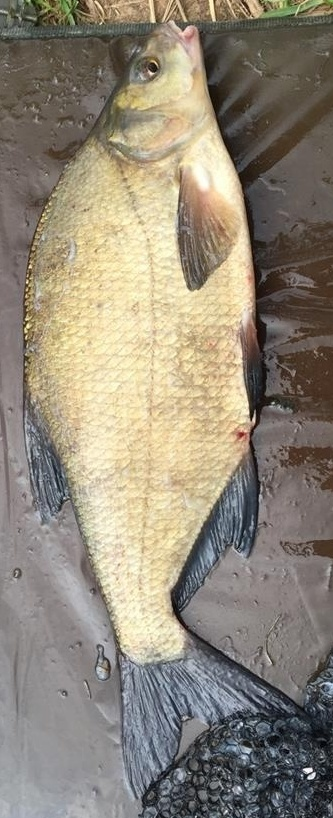Abramis brama: (20, 20, 313, 798)
